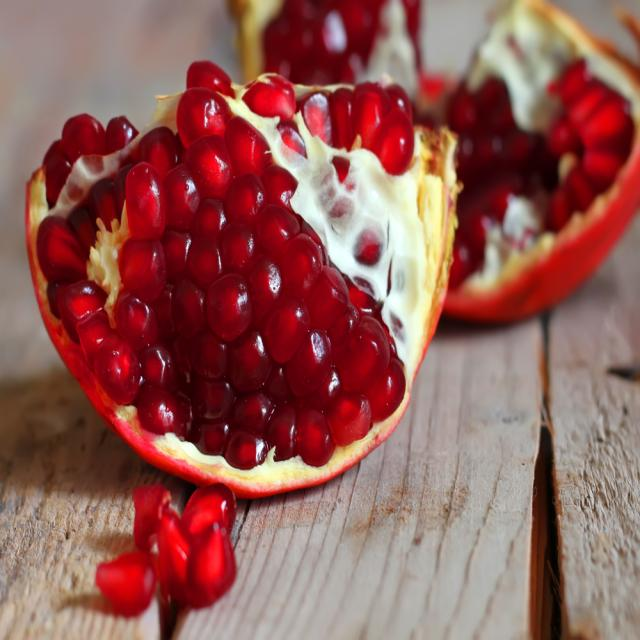Pomegranate: (26, 62, 458, 497), (448, 60, 635, 287), (502, 194, 541, 249)
